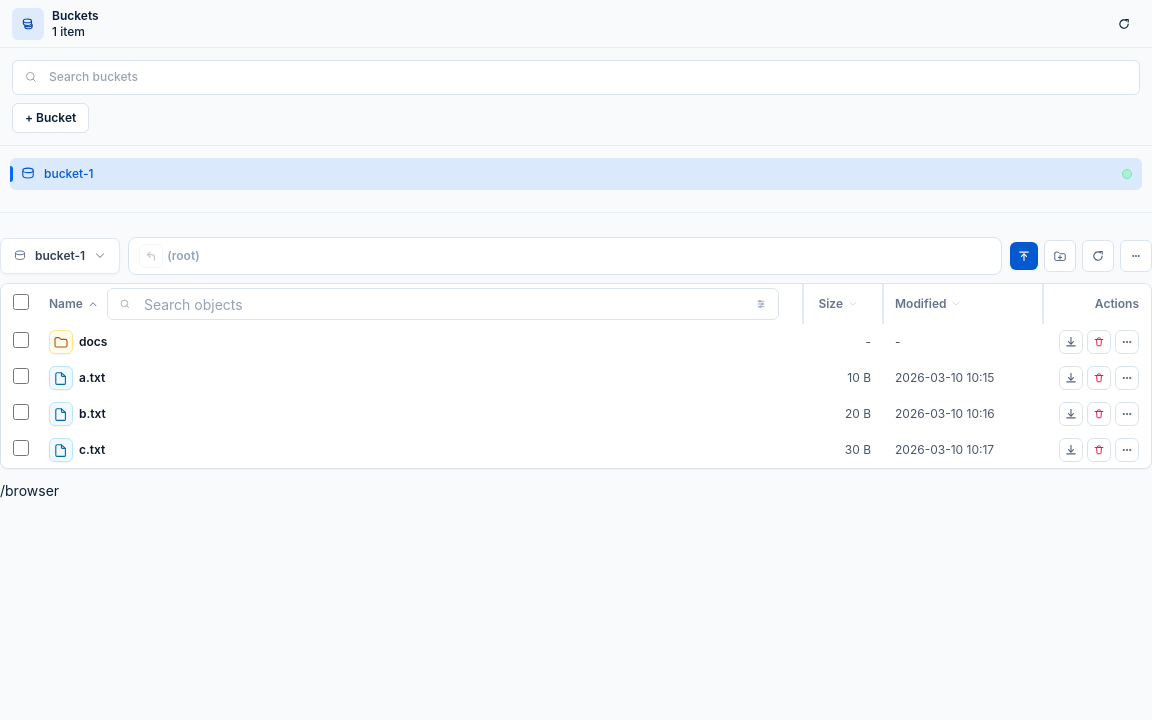
Test: BrowserPage interactions › creates a folder from the create folder modal
Click the button named "New folder" at [1060, 256], box [1044,240,1076,272]
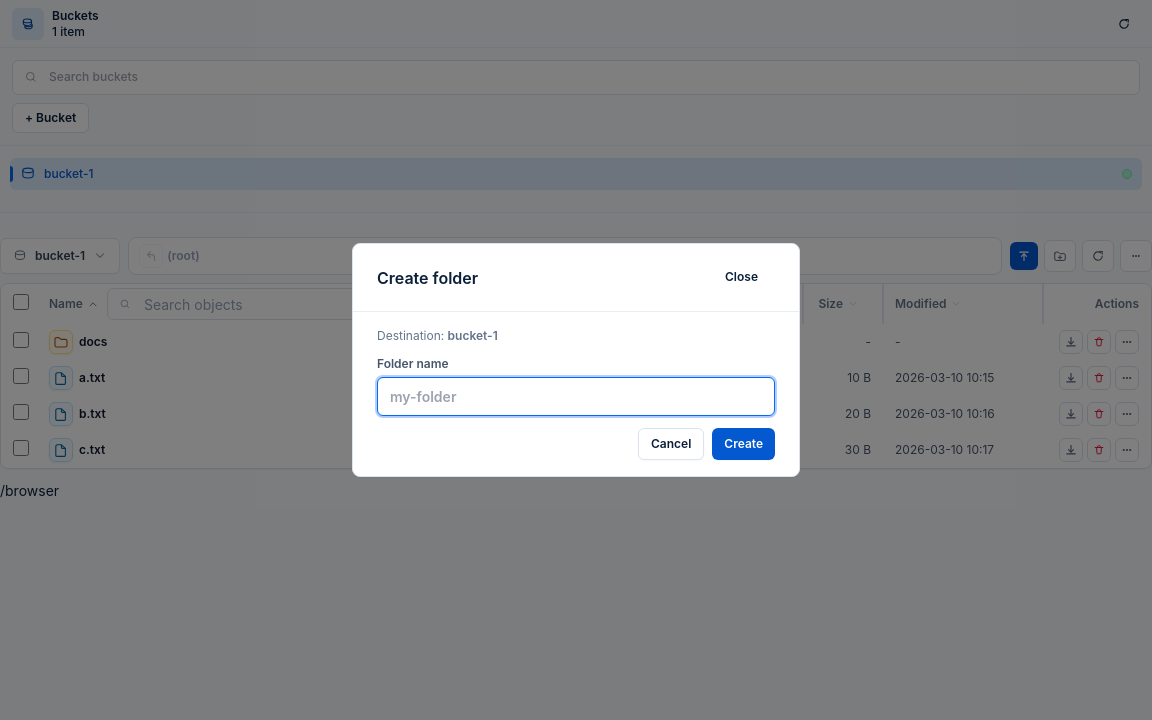
Type "reports" into the field labelled "Folder name" at [576, 396], box [377,377,775,416]
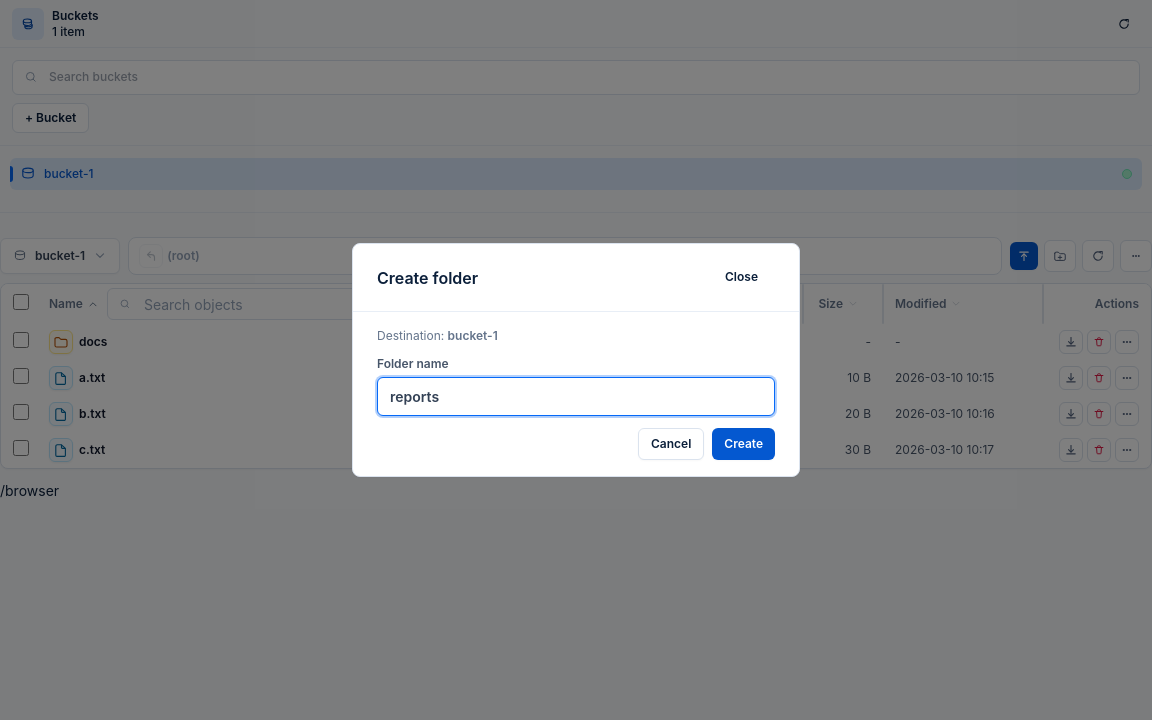
Click the button "Create" at [744, 444], box [712,428,775,460]
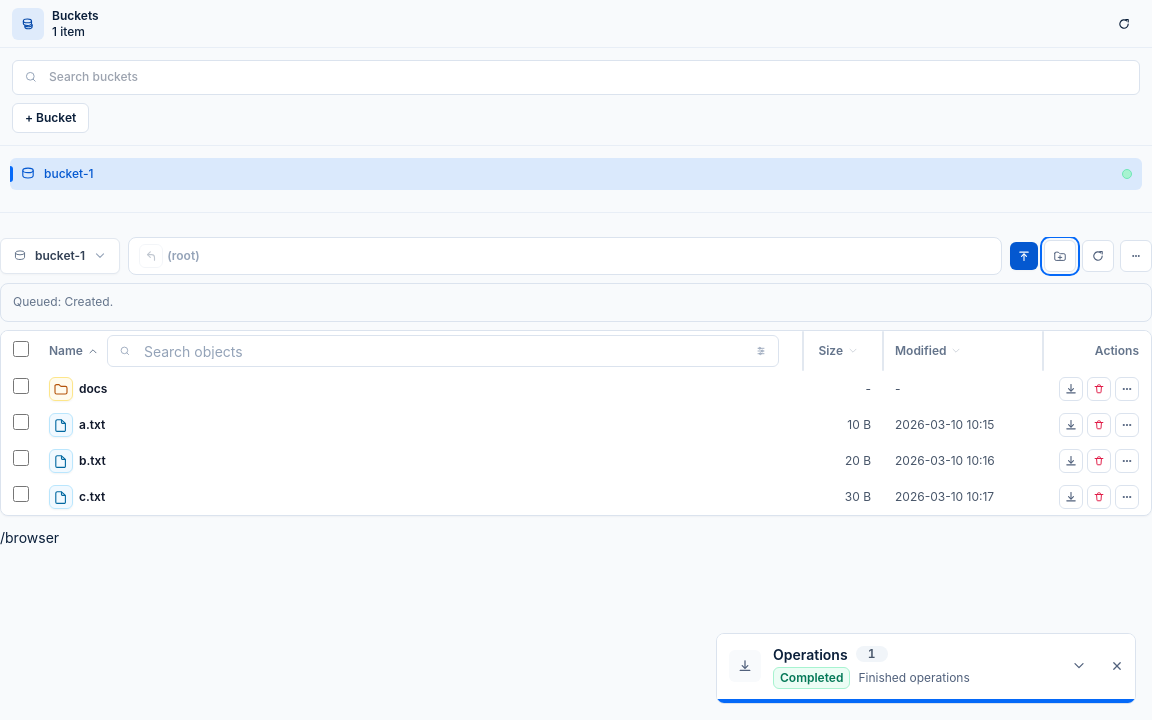
Check: the heading "Create folder" is gone
Click the button with aria-label "Expand operations" at [745, 666], box [717,634,1099,699]
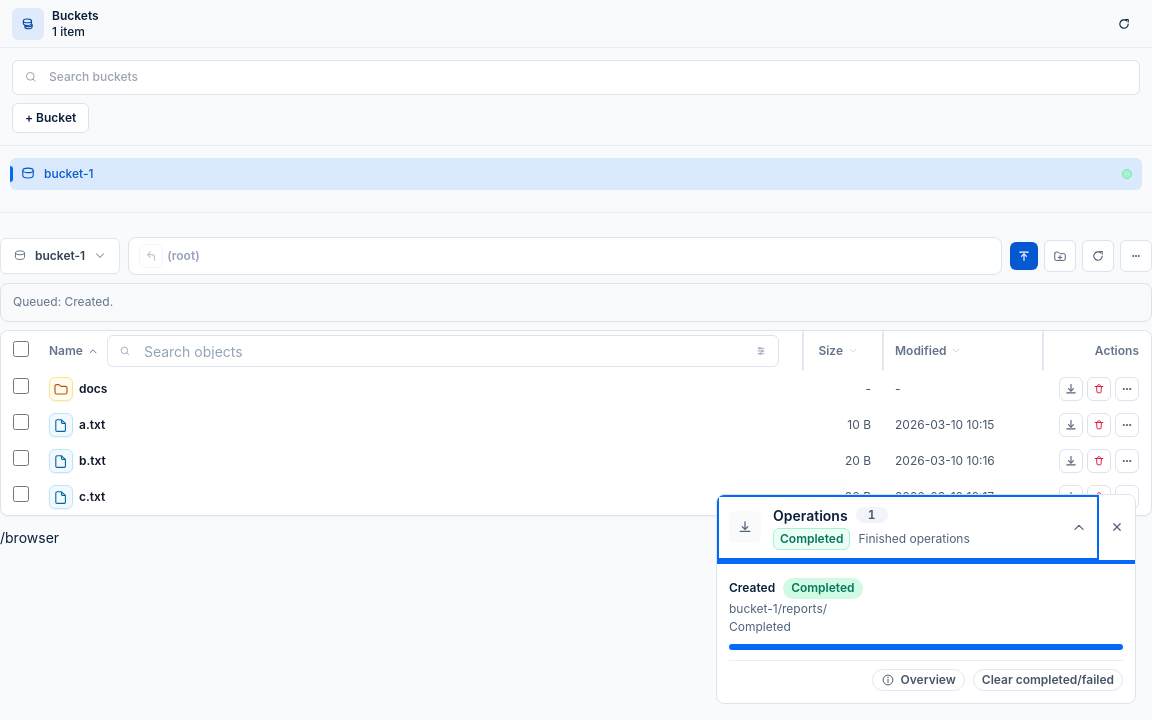
Check: the text "Created" is shown, box [729,580,775,596]
Check: the text "bucket-1/reports/" is shown, box [729,600,827,616]
Click the button "Clear completed/failed" at [1048, 680], box [973,668,1123,691]
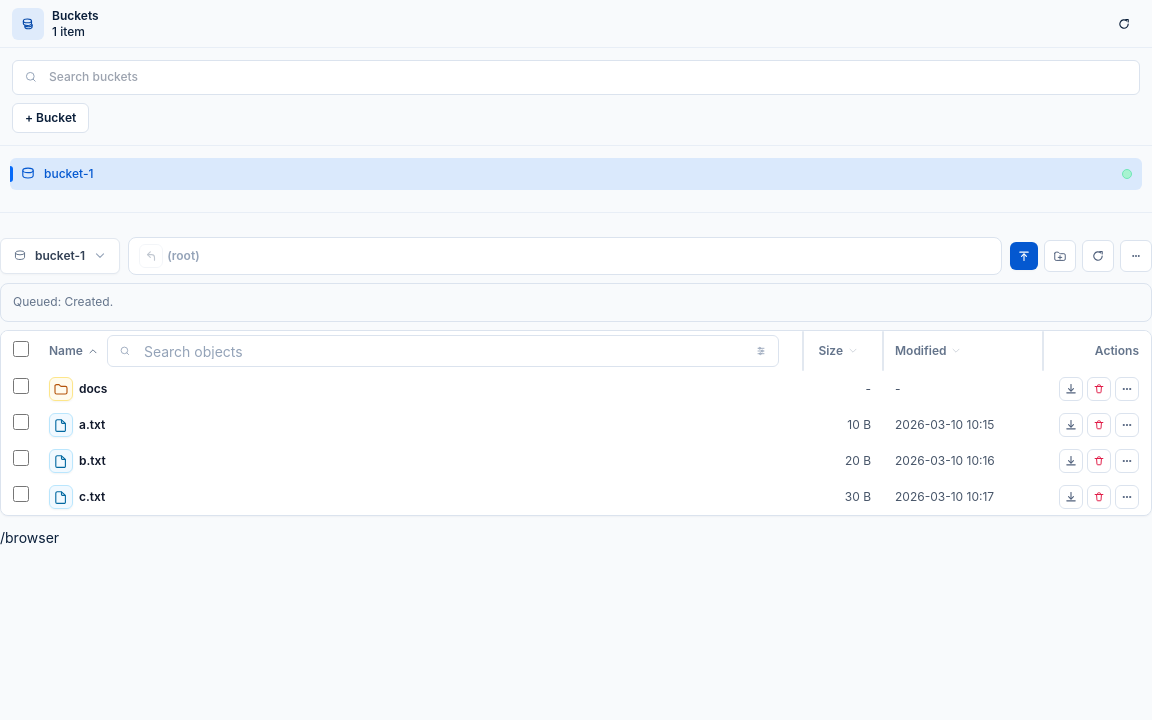
Check: the button "Operations" is gone
